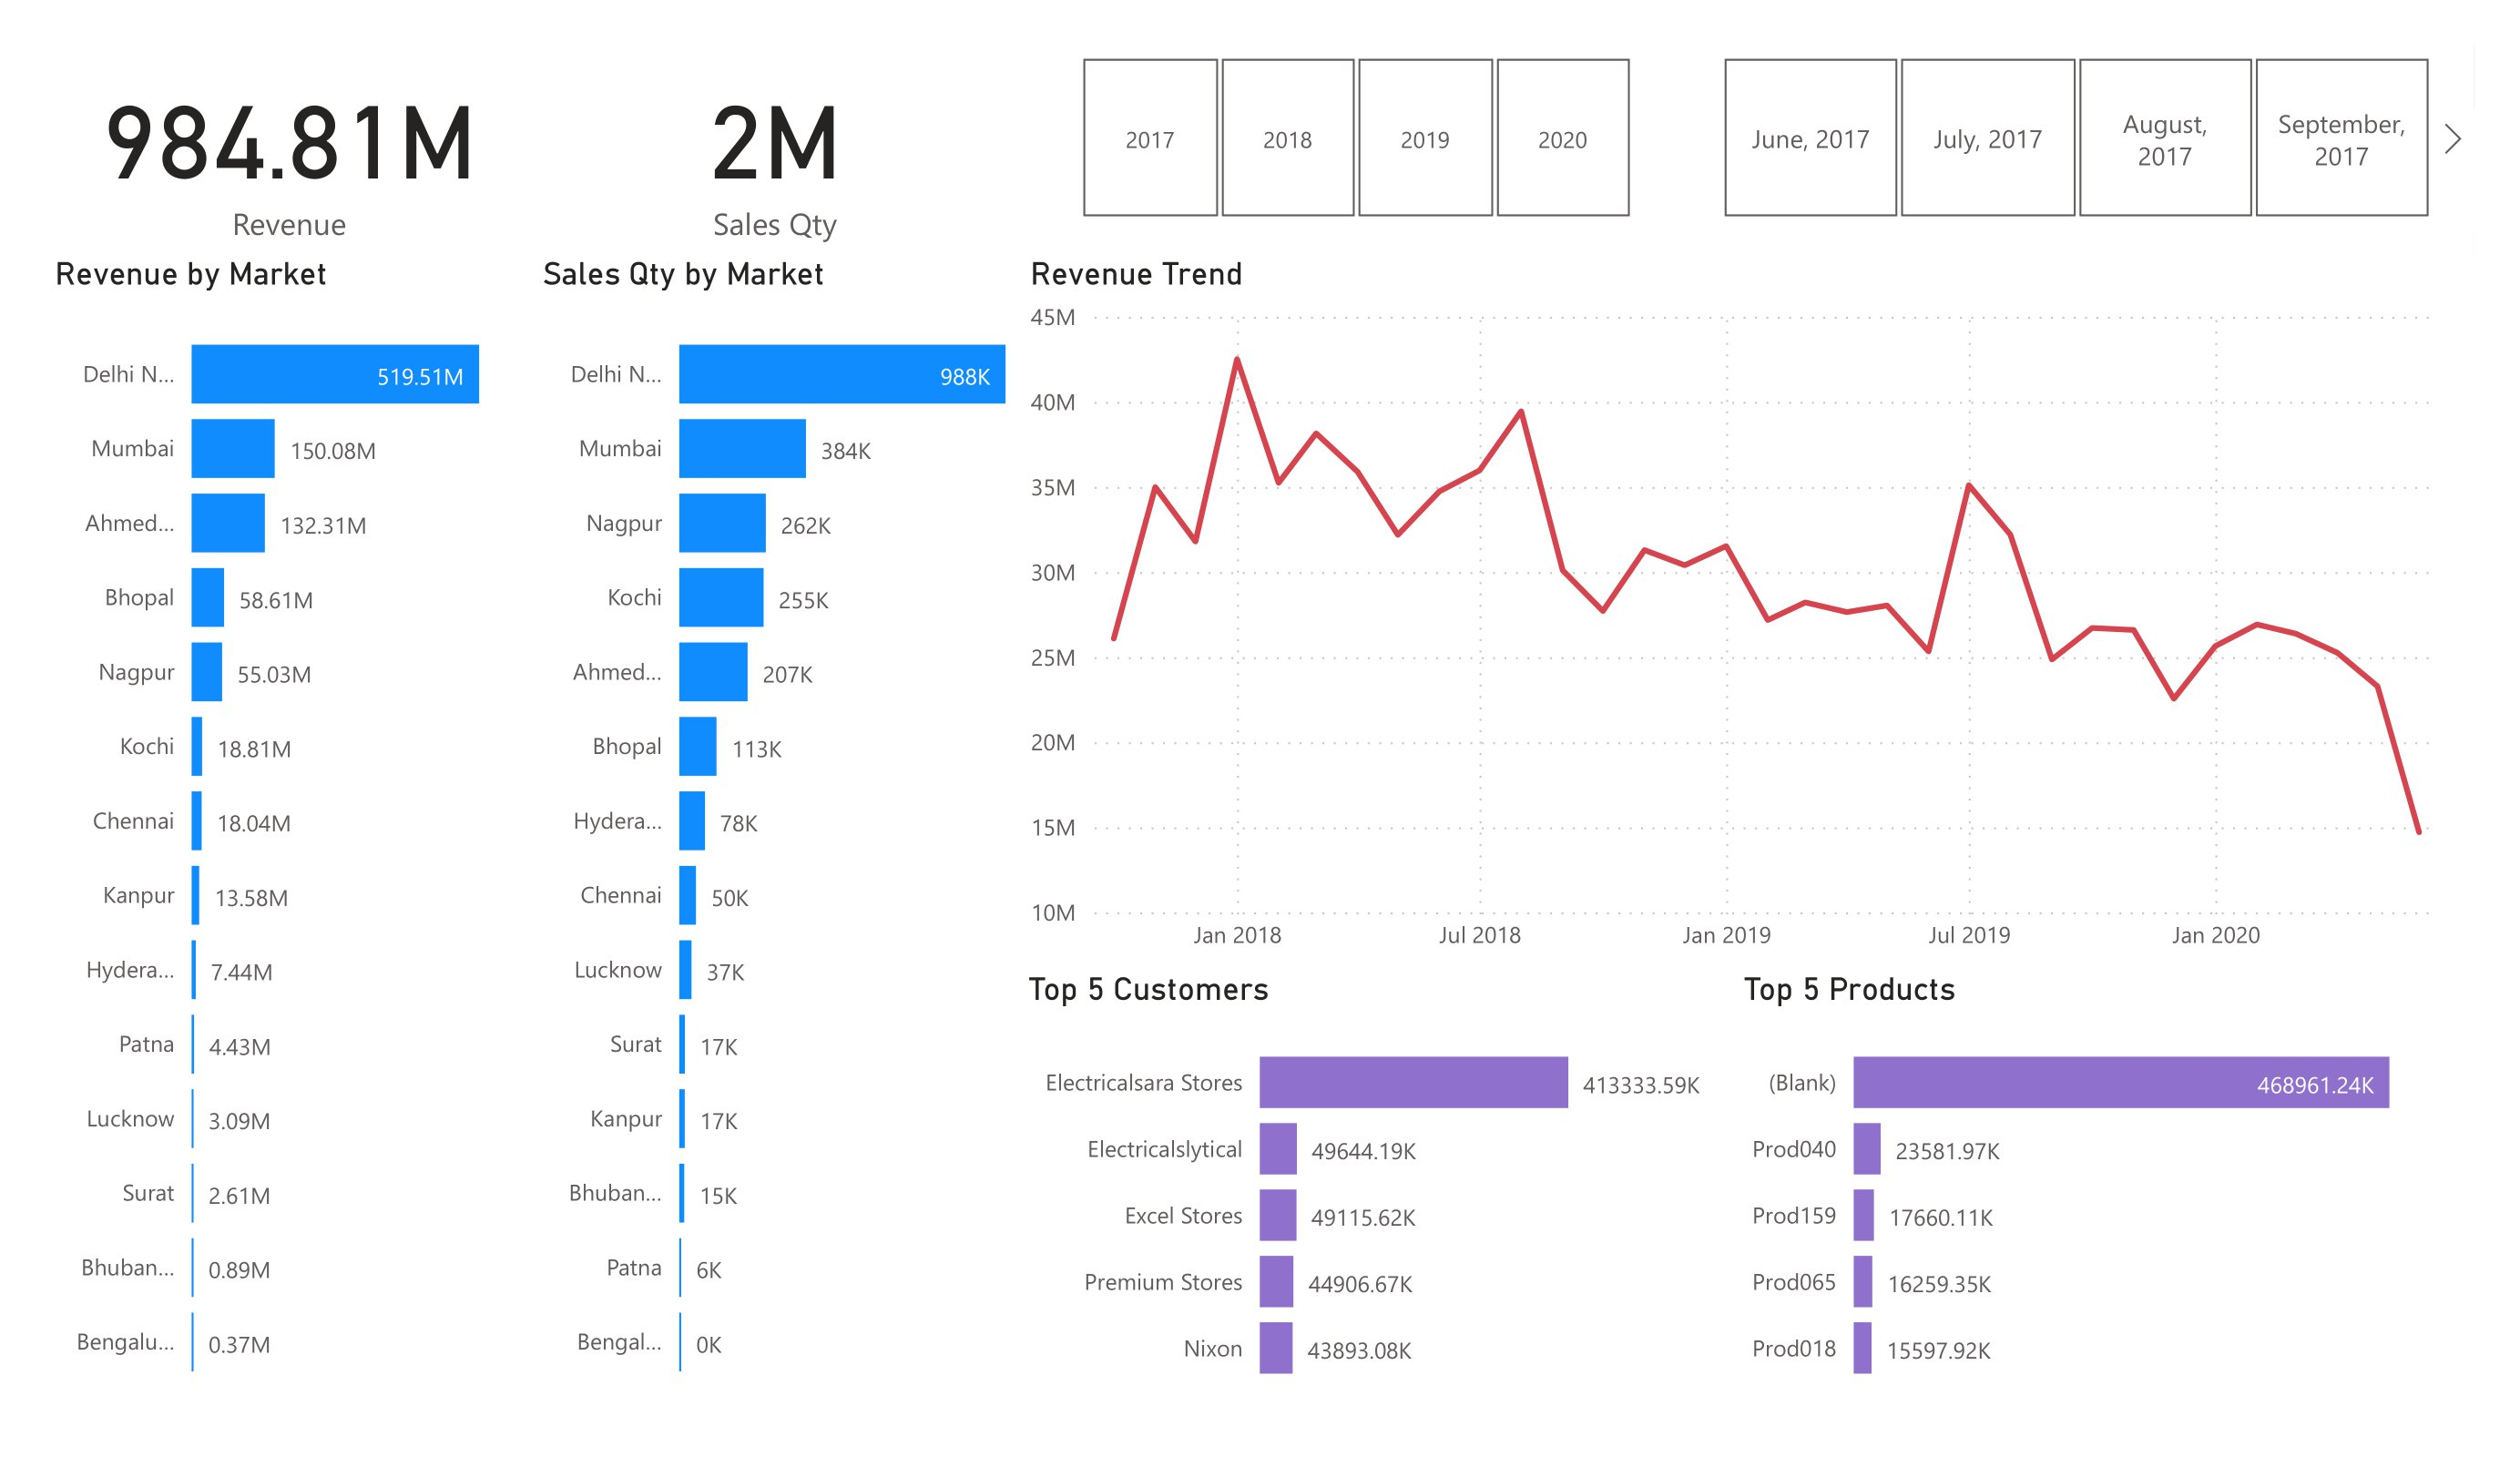

Layout of this report page (visuals, bound fields, positions):
{"tool":"powerbi","page":{"name":"Page 1","canvas":[1280,720],"ordinal":0},"visuals":[{"type":"card","fields":{"Values":["Base Measues.Revenue"]},"box":[0,0,256.6,109.8],"z":0},{"type":"barChart","title":"Revenue by Market","fields":{"Y":["Base Measues.Revenue"],"Category":["sales markets.markets_name"]},"box":[0,109.8,256.6,610.6],"z":1},{"type":"card","fields":{"Values":["Base Measues.Sales Qty"]},"box":[256.6,0,255.2,109.8],"z":2},{"type":"barChart","title":"Sales Qty by Market","fields":{"Y":["Base Measues.Sales Qty"],"Category":["sales markets.markets_name"]},"box":[256.6,109.8,256.6,610.6],"z":3},{"type":"slicer","fields":{"Values":["sales date.year"]},"box":[521.4,0,337.1,97.1],"z":4},{"type":"slicer","fields":{"Values":["sales date.cy_date"]},"box":[858.6,0,421.4,97.1],"z":5},{"type":"barChart","title":"Top 5 Customers","fields":{"Y":["Base Measues.Revenue"],"Category":["sales customers.custmer_name"]},"box":[512.9,487.1,368.6,232.9],"z":6},{"type":"barChart","title":"Top 5 Products","fields":{"Y":["Base Measues.Revenue"],"Category":["sales products.product_code"]},"box":[890,487.1,368.6,232.9],"z":7},{"type":"lineChart","title":"Revenue Trend","fields":{"Y":["Base Measues.Revenue"],"Category":["sales date.cy_date.Variation.Date Hierarchy.Year","sales date.cy_date.Variation.Date Hierarchy.Quarter","sales date.cy_date.Variation.Date Hierarchy.Month","sales date.cy_date.Variation.Date Hierarchy.Day"]},"box":[514.3,110,765.7,377.1],"z":8}]}

Visuals, with their boxes on the page's 1280x720 design canvas (x1, y1, x2, y2). These are canvas units, not pixel positions in the 2520x1457 screenshot, which may show the page scaled, cropped or inside an application window:
card - Base Measues.Revenue: box=[0, 0, 257, 110]
"Revenue by Market" barChart: box=[0, 110, 257, 720]
card - Base Measues.Sales Qty: box=[257, 0, 512, 110]
"Sales Qty by Market" barChart: box=[257, 110, 513, 720]
slicer - sales date.year: box=[521, 0, 858, 97]
slicer - sales date.cy_date: box=[859, 0, 1280, 97]
"Top 5 Customers" barChart: box=[513, 487, 882, 720]
"Top 5 Products" barChart: box=[890, 487, 1259, 720]
"Revenue Trend" lineChart: box=[514, 110, 1280, 487]
